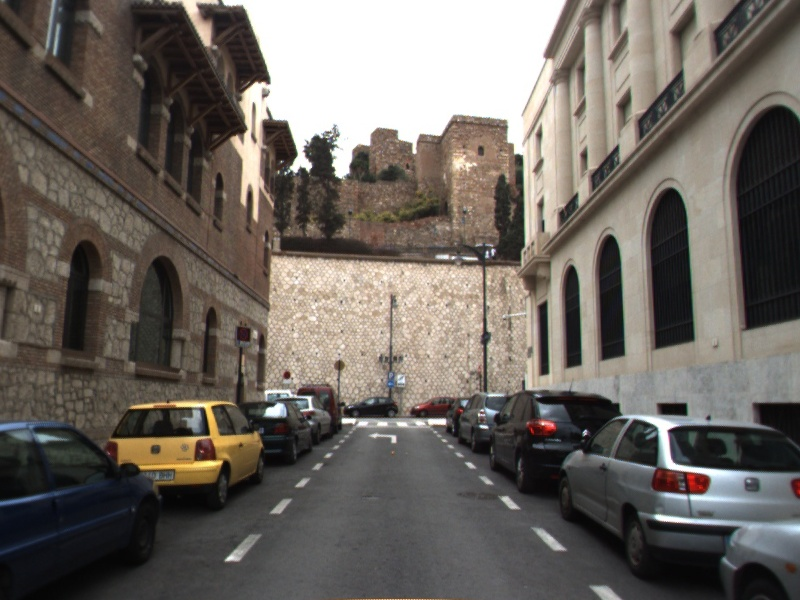LEFT: (366, 430, 399, 445)
